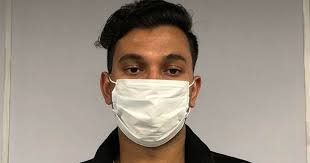mask: (94, 3, 225, 152)
